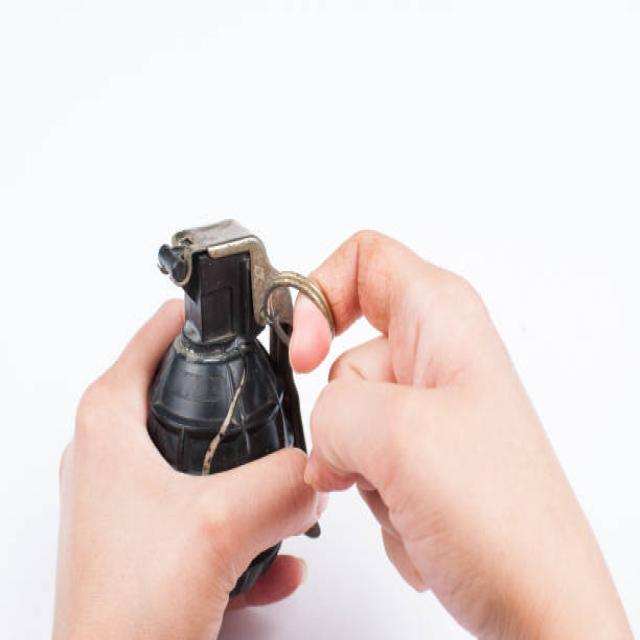grenade: (144, 217, 339, 594)
